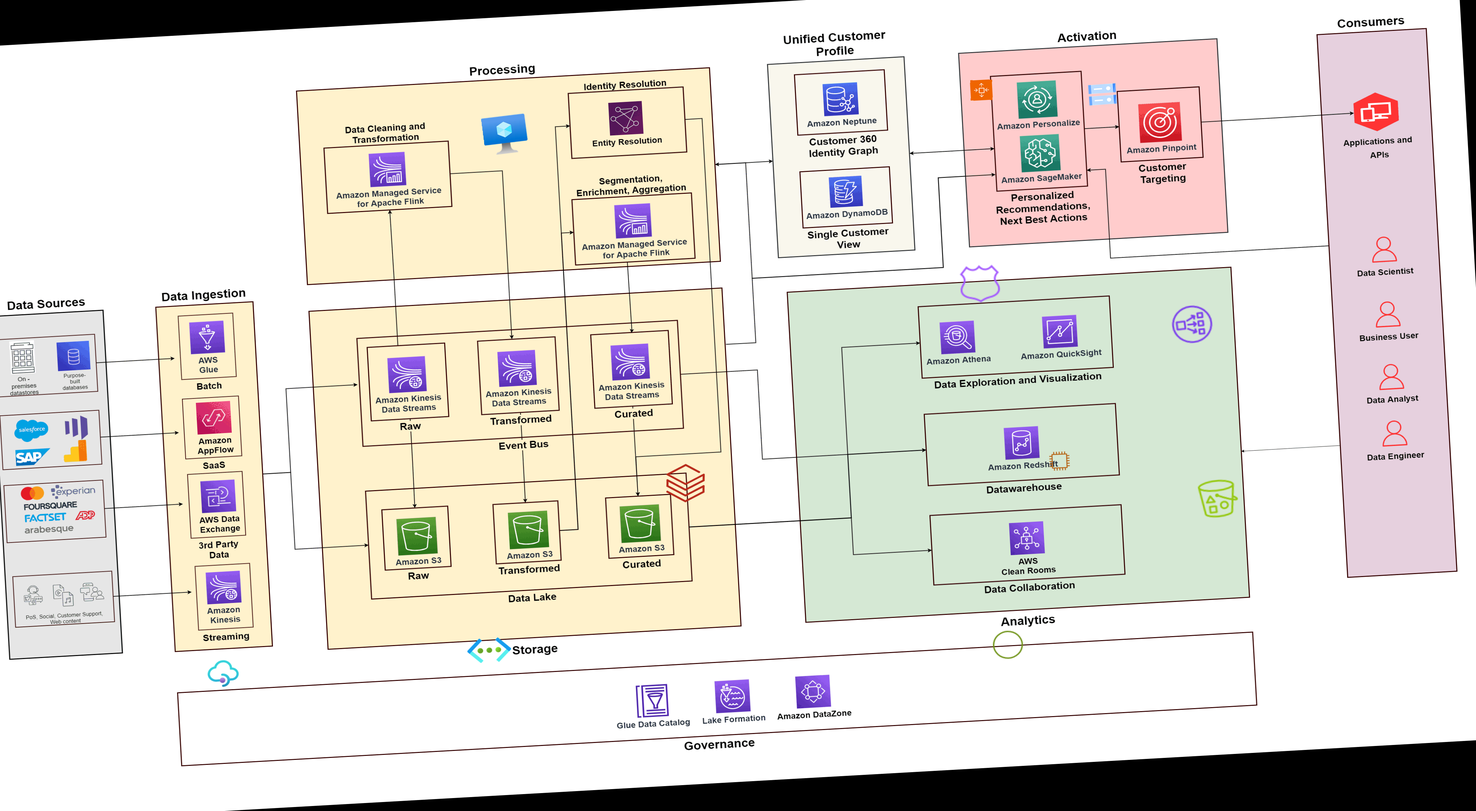aws_amazon_ec2_auto_scaling: (969, 79, 993, 101)
aws_ec2_instance: (1048, 450, 1071, 472)
aws_elastic_load_balancing_network_load_balancer: (1168, 301, 1216, 347)
aws_route_53_hosted_zone: (957, 262, 1003, 305)
aws_simple_storage_service_bucket_with_objects: (1194, 476, 1243, 521)
aws_simple_storage_service_object: (990, 628, 1026, 661)
azure_api_management_services: (205, 656, 241, 690)
azure_databricks: (661, 460, 710, 506)
azure_virtual_machine: (480, 112, 530, 159)
azure_virtual_networks: (466, 628, 512, 672)
gcp_cloud_storage: (1085, 78, 1120, 111)
